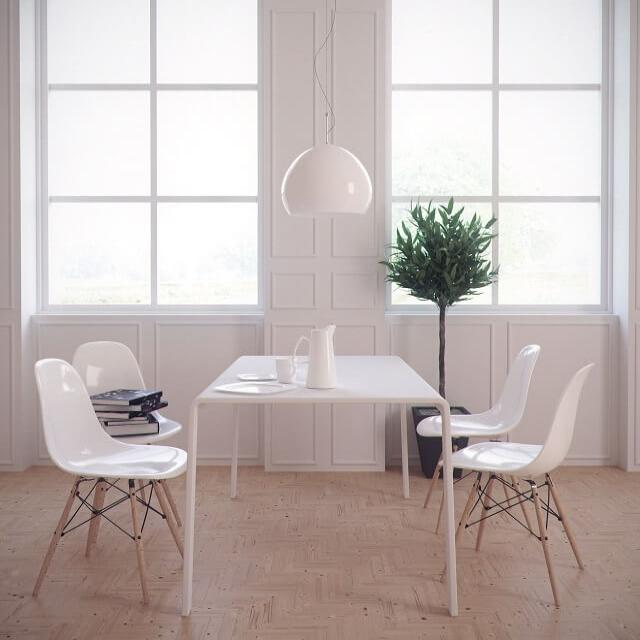white chair: (437, 327, 608, 612), (27, 346, 192, 616)
white desk: (195, 346, 447, 502)
